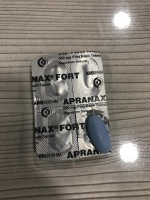Apranax: (84, 114, 112, 154)
